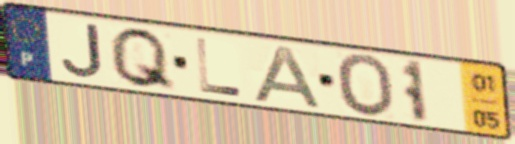1: (399, 57, 431, 127)
A: (250, 43, 327, 112)
J: (59, 22, 108, 81)
L: (193, 35, 247, 99)
O: (333, 51, 398, 120)
Q: (107, 25, 179, 94)
